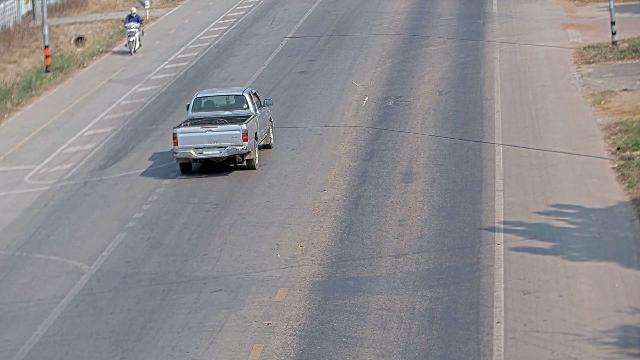pickup-truck: (171, 86, 274, 174)
